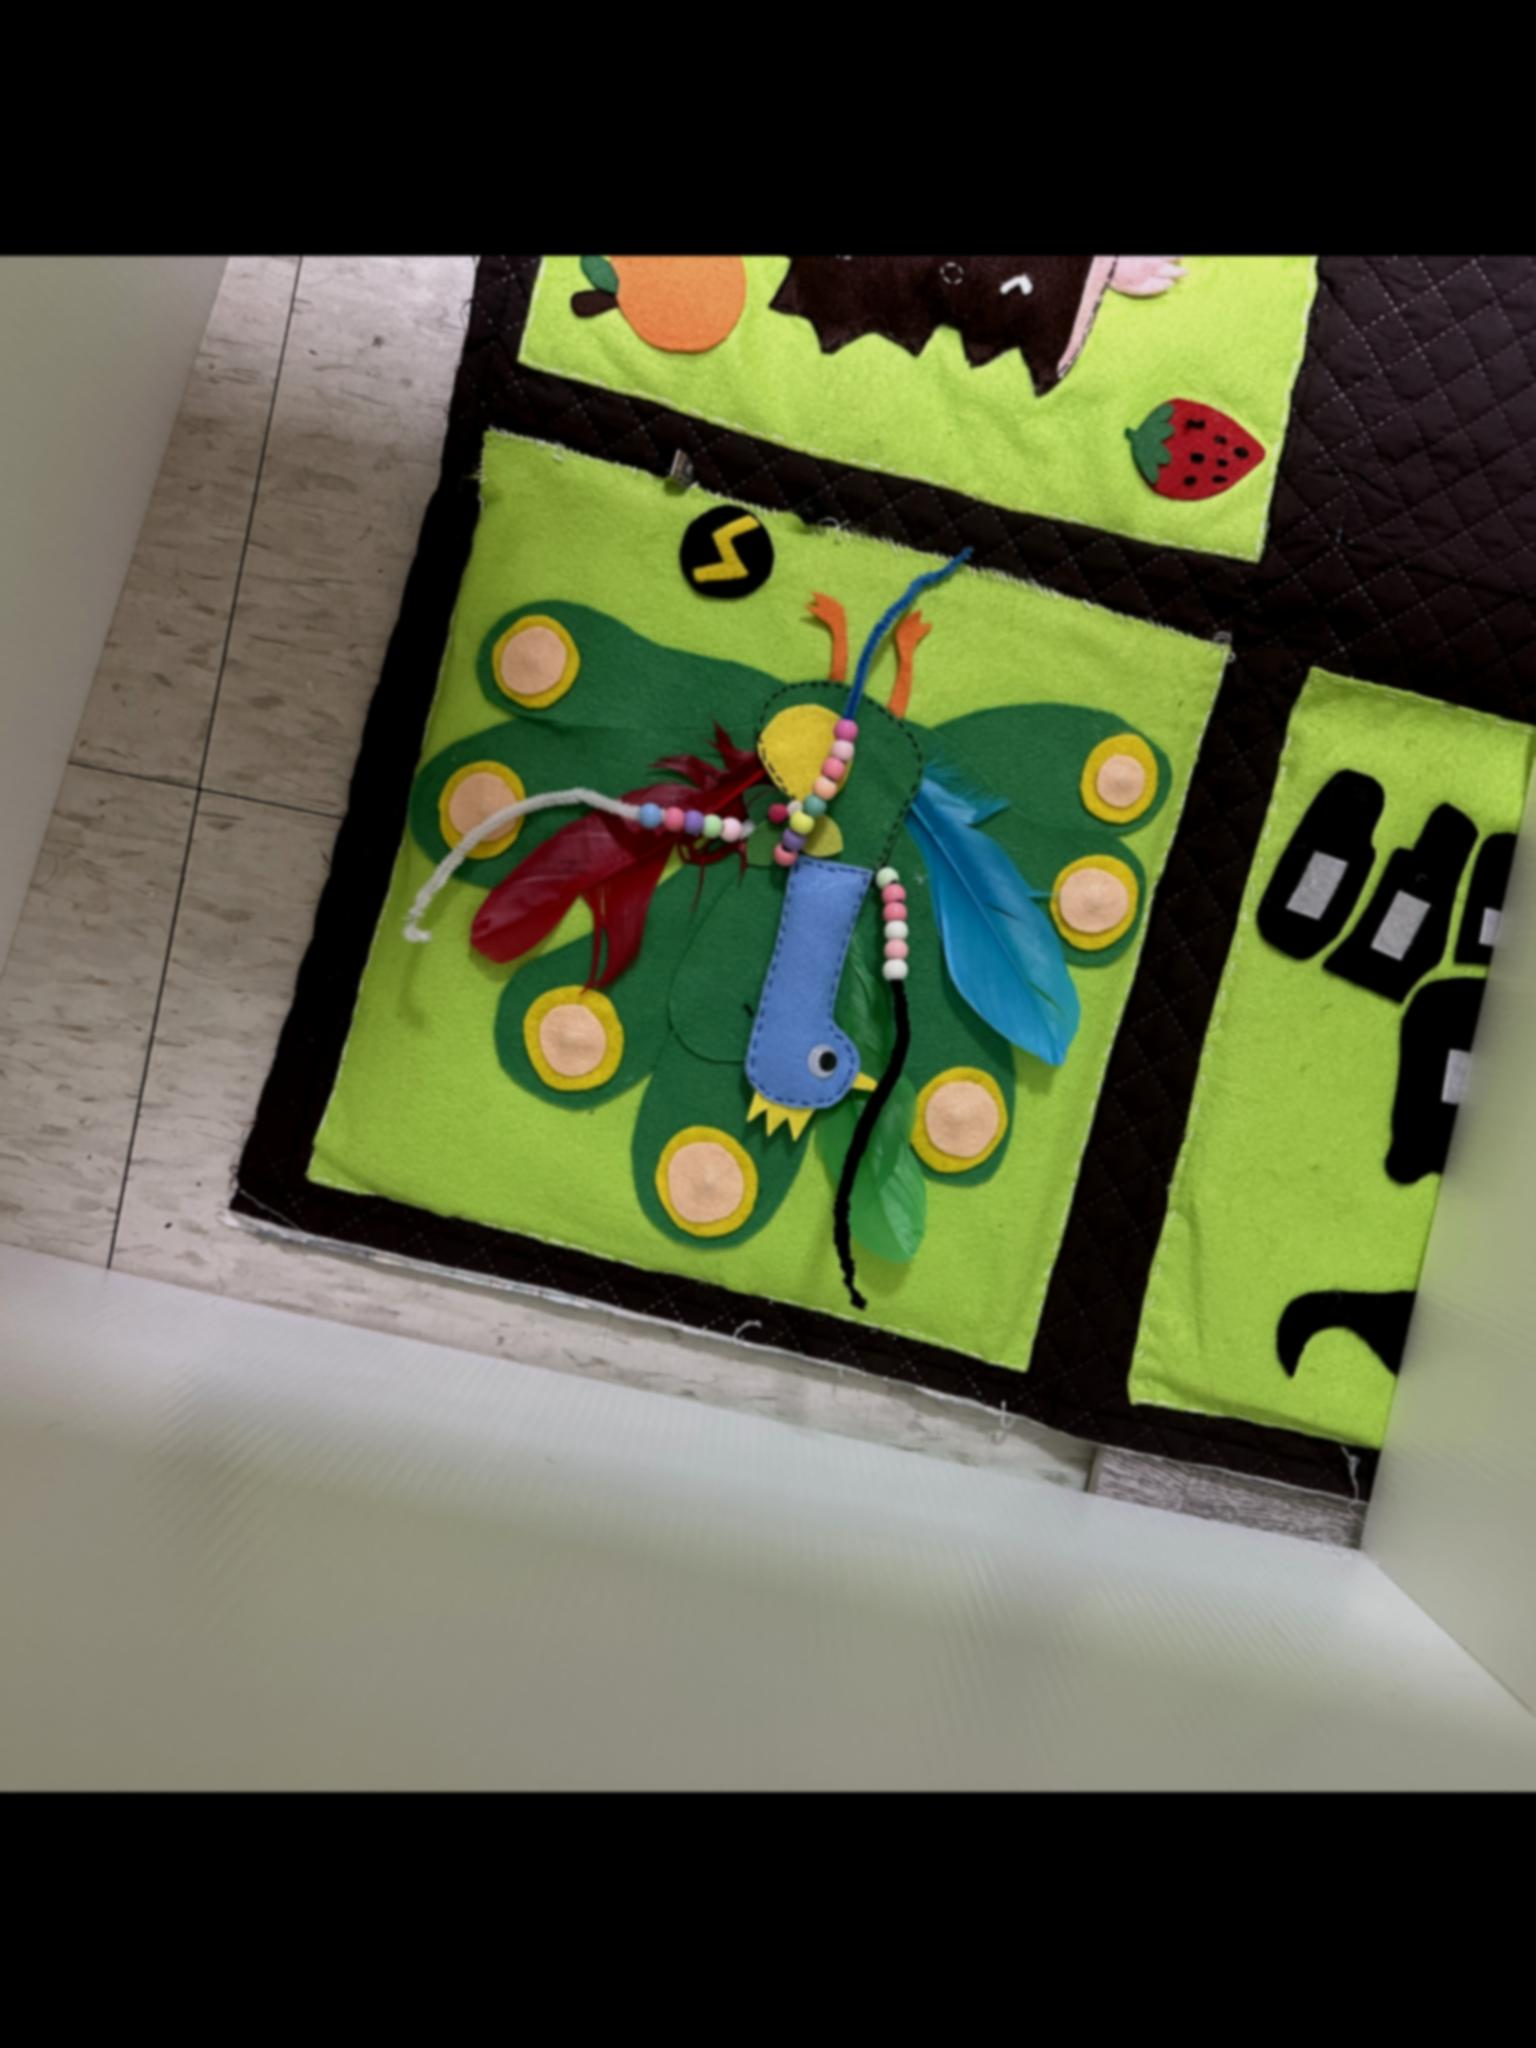bead: (884, 956, 908, 984), (789, 811, 815, 834), (639, 801, 662, 827), (781, 829, 808, 850), (874, 868, 900, 889), (774, 845, 800, 866), (821, 758, 844, 780), (805, 795, 828, 818), (815, 779, 839, 800), (883, 940, 912, 956), (720, 819, 741, 840), (886, 922, 910, 940), (833, 737, 850, 761), (684, 810, 700, 835), (665, 805, 681, 830), (883, 884, 904, 903), (886, 901, 907, 921), (834, 722, 855, 742), (702, 814, 720, 837)
